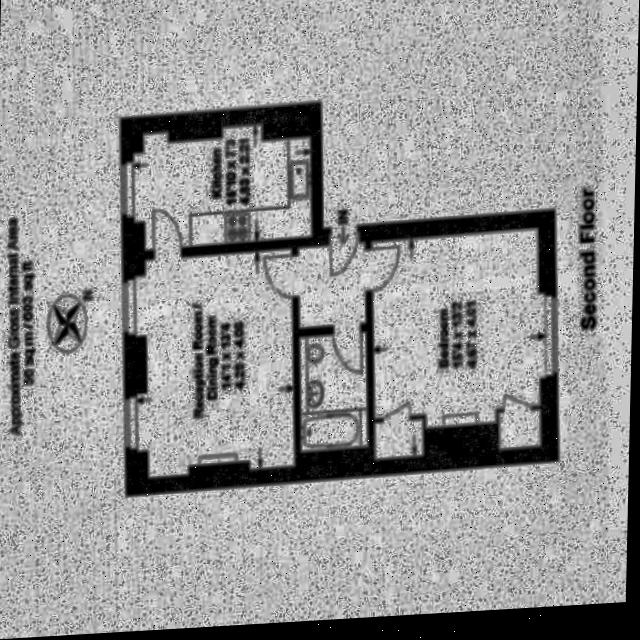room: (359, 225, 565, 458), (136, 247, 296, 476), (129, 116, 322, 249), (300, 330, 369, 451), (299, 229, 368, 326)
